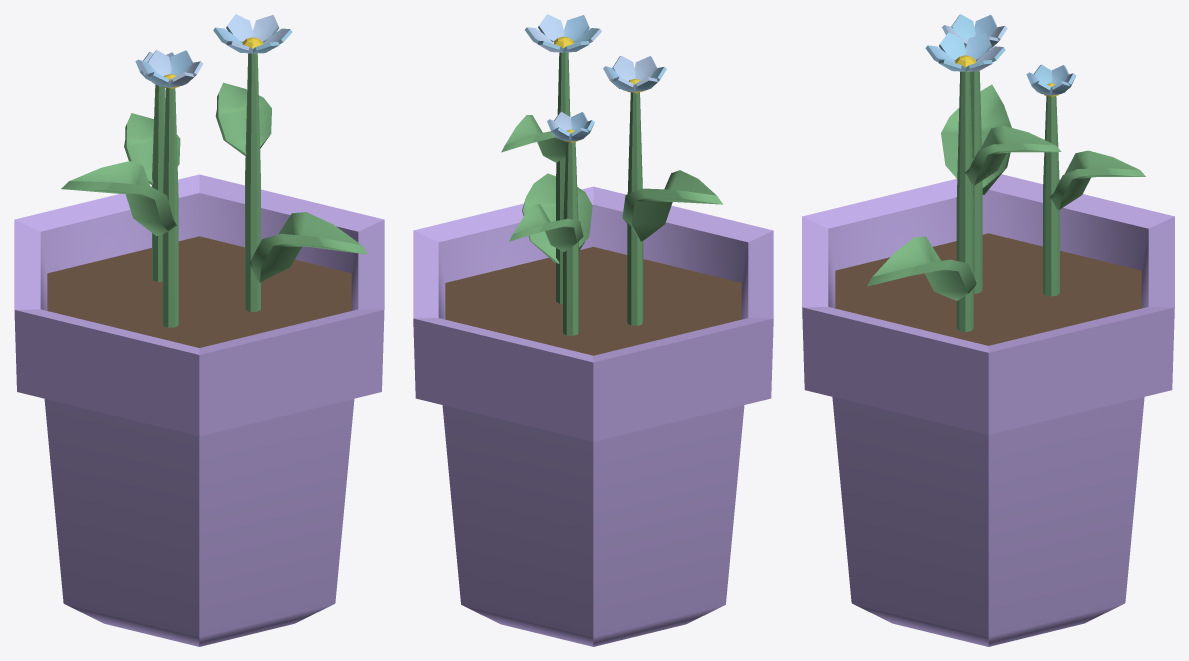
File: plant06_04.gltf
3 renders of one model, left to right at view 1: azimuth 30°, elevation 25°; view 2: azimuth 150°, elevation 25°; view 3: azimuth 270°, elevation 25°, orthographic. The views are drawn at different scales.
Visible parts, largest first — view 1: plant06_stage01:pot, plant06_stage01:dirt, plant06_stage03:plant06_stage02:pCube5, plant06_stage03:plant06_stage02:pCylinder3, plant06_stage03:plant06_stage02:pCube3, plant06_stage03:plant06_stage02:pCylinder1, plant06_stage03:plant06_stage02:pCube6, plant06_stage03:plant06_stage02:pCylinder2, plant06_stage03:plant06_stage02:pCube4; view 2: plant06_stage01:pot, plant06_stage01:dirt, plant06_stage03:plant06_stage02:pCube3, plant06_stage03:plant06_stage02:pCylinder1, plant06_stage03:plant06_stage02:pCylinder2, plant06_stage03:plant06_stage02:pCube5, plant06_stage03:plant06_stage02:pCube4, plant06_stage03:plant06_stage02:pCylinder3, plant06_stage03:plant06_stage02:pCube6; view 3: plant06_stage01:pot, plant06_stage01:dirt, plant06_stage03:plant06_stage02:pCylinder3, plant06_stage03:plant06_stage02:pCube5, plant06_stage03:plant06_stage02:pCylinder2, plant06_stage03:plant06_stage02:pCube6, plant06_stage03:plant06_stage02:pCube4, plant06_stage03:plant06_stage02:pCube3, plant06_stage03:plant06_stage02:pCylinder1.
Boxes of the visible parts, left/top/right/bottom form: plant06_stage01:pot: left=14, top=174, right=384, bottom=646; plant06_stage01:dirt: left=47, top=236, right=351, bottom=347; plant06_stage03:plant06_stage02:pCube5: left=248, top=212, right=367, bottom=282; plant06_stage03:plant06_stage02:pCylinder3: left=245, top=53, right=260, bottom=311; plant06_stage03:plant06_stage02:pCube3: left=61, top=161, right=176, bottom=236; plant06_stage03:plant06_stage02:pCylinder1: left=162, top=88, right=178, bottom=327; plant06_stage03:plant06_stage02:pCube6: left=215, top=82, right=271, bottom=155; plant06_stage03:plant06_stage02:pCylinder2: left=152, top=84, right=165, bottom=281; plant06_stage03:plant06_stage02:pCube4: left=124, top=113, right=180, bottom=184; plant06_stage01:pot: left=413, top=186, right=773, bottom=646; plant06_stage01:dirt: left=445, top=247, right=741, bottom=355; plant06_stage03:plant06_stage02:pCube3: left=622, top=170, right=722, bottom=241; plant06_stage03:plant06_stage02:pCylinder1: left=627, top=92, right=643, bottom=325; plant06_stage03:plant06_stage02:pCylinder2: left=563, top=142, right=578, bottom=335; plant06_stage03:plant06_stage02:pCube5: left=522, top=173, right=592, bottom=263; plant06_stage03:plant06_stage02:pCube4: left=509, top=204, right=583, bottom=251; plant06_stage03:plant06_stage02:pCylinder3: left=556, top=52, right=570, bottom=303; plant06_stage03:plant06_stage02:pCube6: left=501, top=115, right=566, bottom=162; plant06_stage01:pot: left=802, top=174, right=1174, bottom=646; plant06_stage01:dirt: left=835, top=233, right=1141, bottom=345; plant06_stage03:plant06_stage02:pCylinder3: left=956, top=71, right=973, bottom=331; plant06_stage03:plant06_stage02:pCube5: left=866, top=236, right=976, bottom=300; plant06_stage03:plant06_stage02:pCylinder2: left=1043, top=96, right=1059, bottom=296; plant06_stage03:plant06_stage02:pCube6: left=965, top=126, right=1061, bottom=185; plant06_stage03:plant06_stage02:pCube4: left=1049, top=150, right=1145, bottom=210; plant06_stage03:plant06_stage02:pCube3: left=941, top=84, right=1011, bottom=194; plant06_stage03:plant06_stage02:pCylinder1: left=970, top=71, right=982, bottom=293.
Size of the model in its own units: 0.0193 by 0.0284 by 0.0167.
2 materials, 2 textured.
